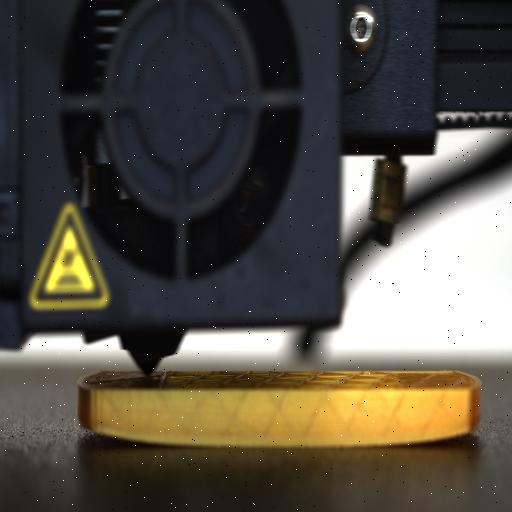warp: (370, 410, 488, 451), (68, 414, 188, 450)
